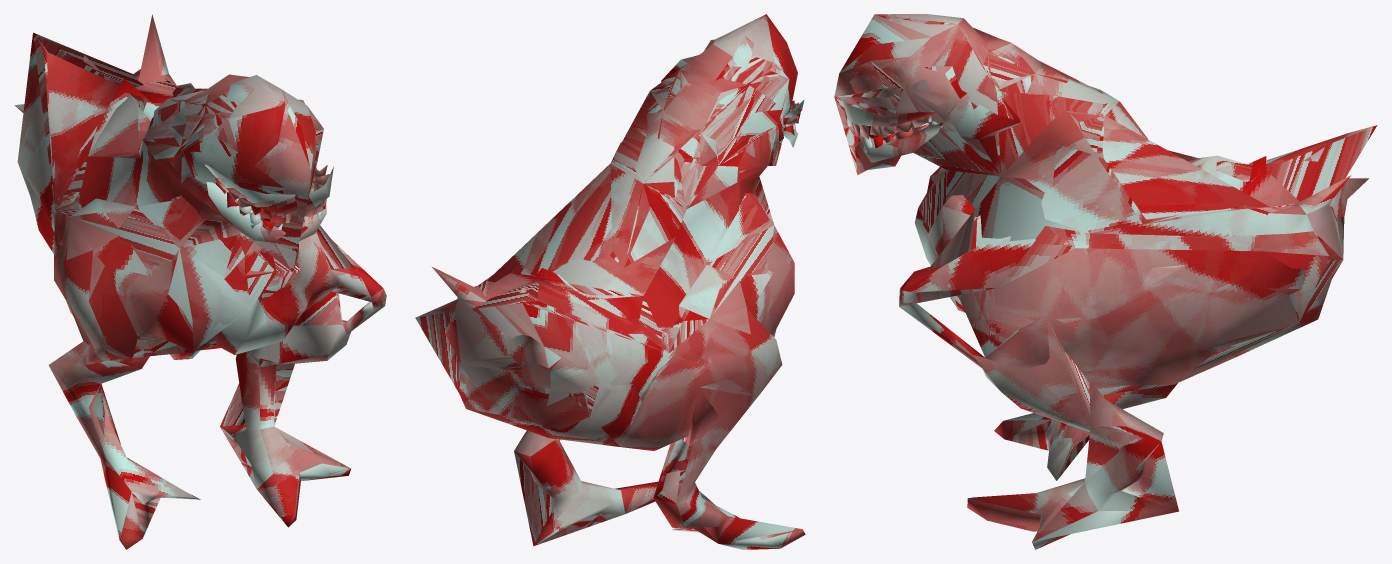
The model's file is item_squishy_gold_chicken.glb.
3 views of the same model, side by side, from view 1: azimuth 30°, elevation 25°; view 2: azimuth 150°, elevation 25°; view 3: azimuth 270°, elevation 25° (orthographic). The views are drawn at different scales.
Visible parts, largest first — view 1: toy_chicken; view 2: toy_chicken; view 3: toy_chicken.
Boxes of the visible parts, x1,y1,x2,y2 form: toy_chicken: (14, 14, 386, 549); toy_chicken: (415, 14, 805, 549); toy_chicken: (834, 14, 1377, 549).
Size of the model in its own units: 0.213 by 0.3858 by 0.3987.
1 material, 1 textured.
